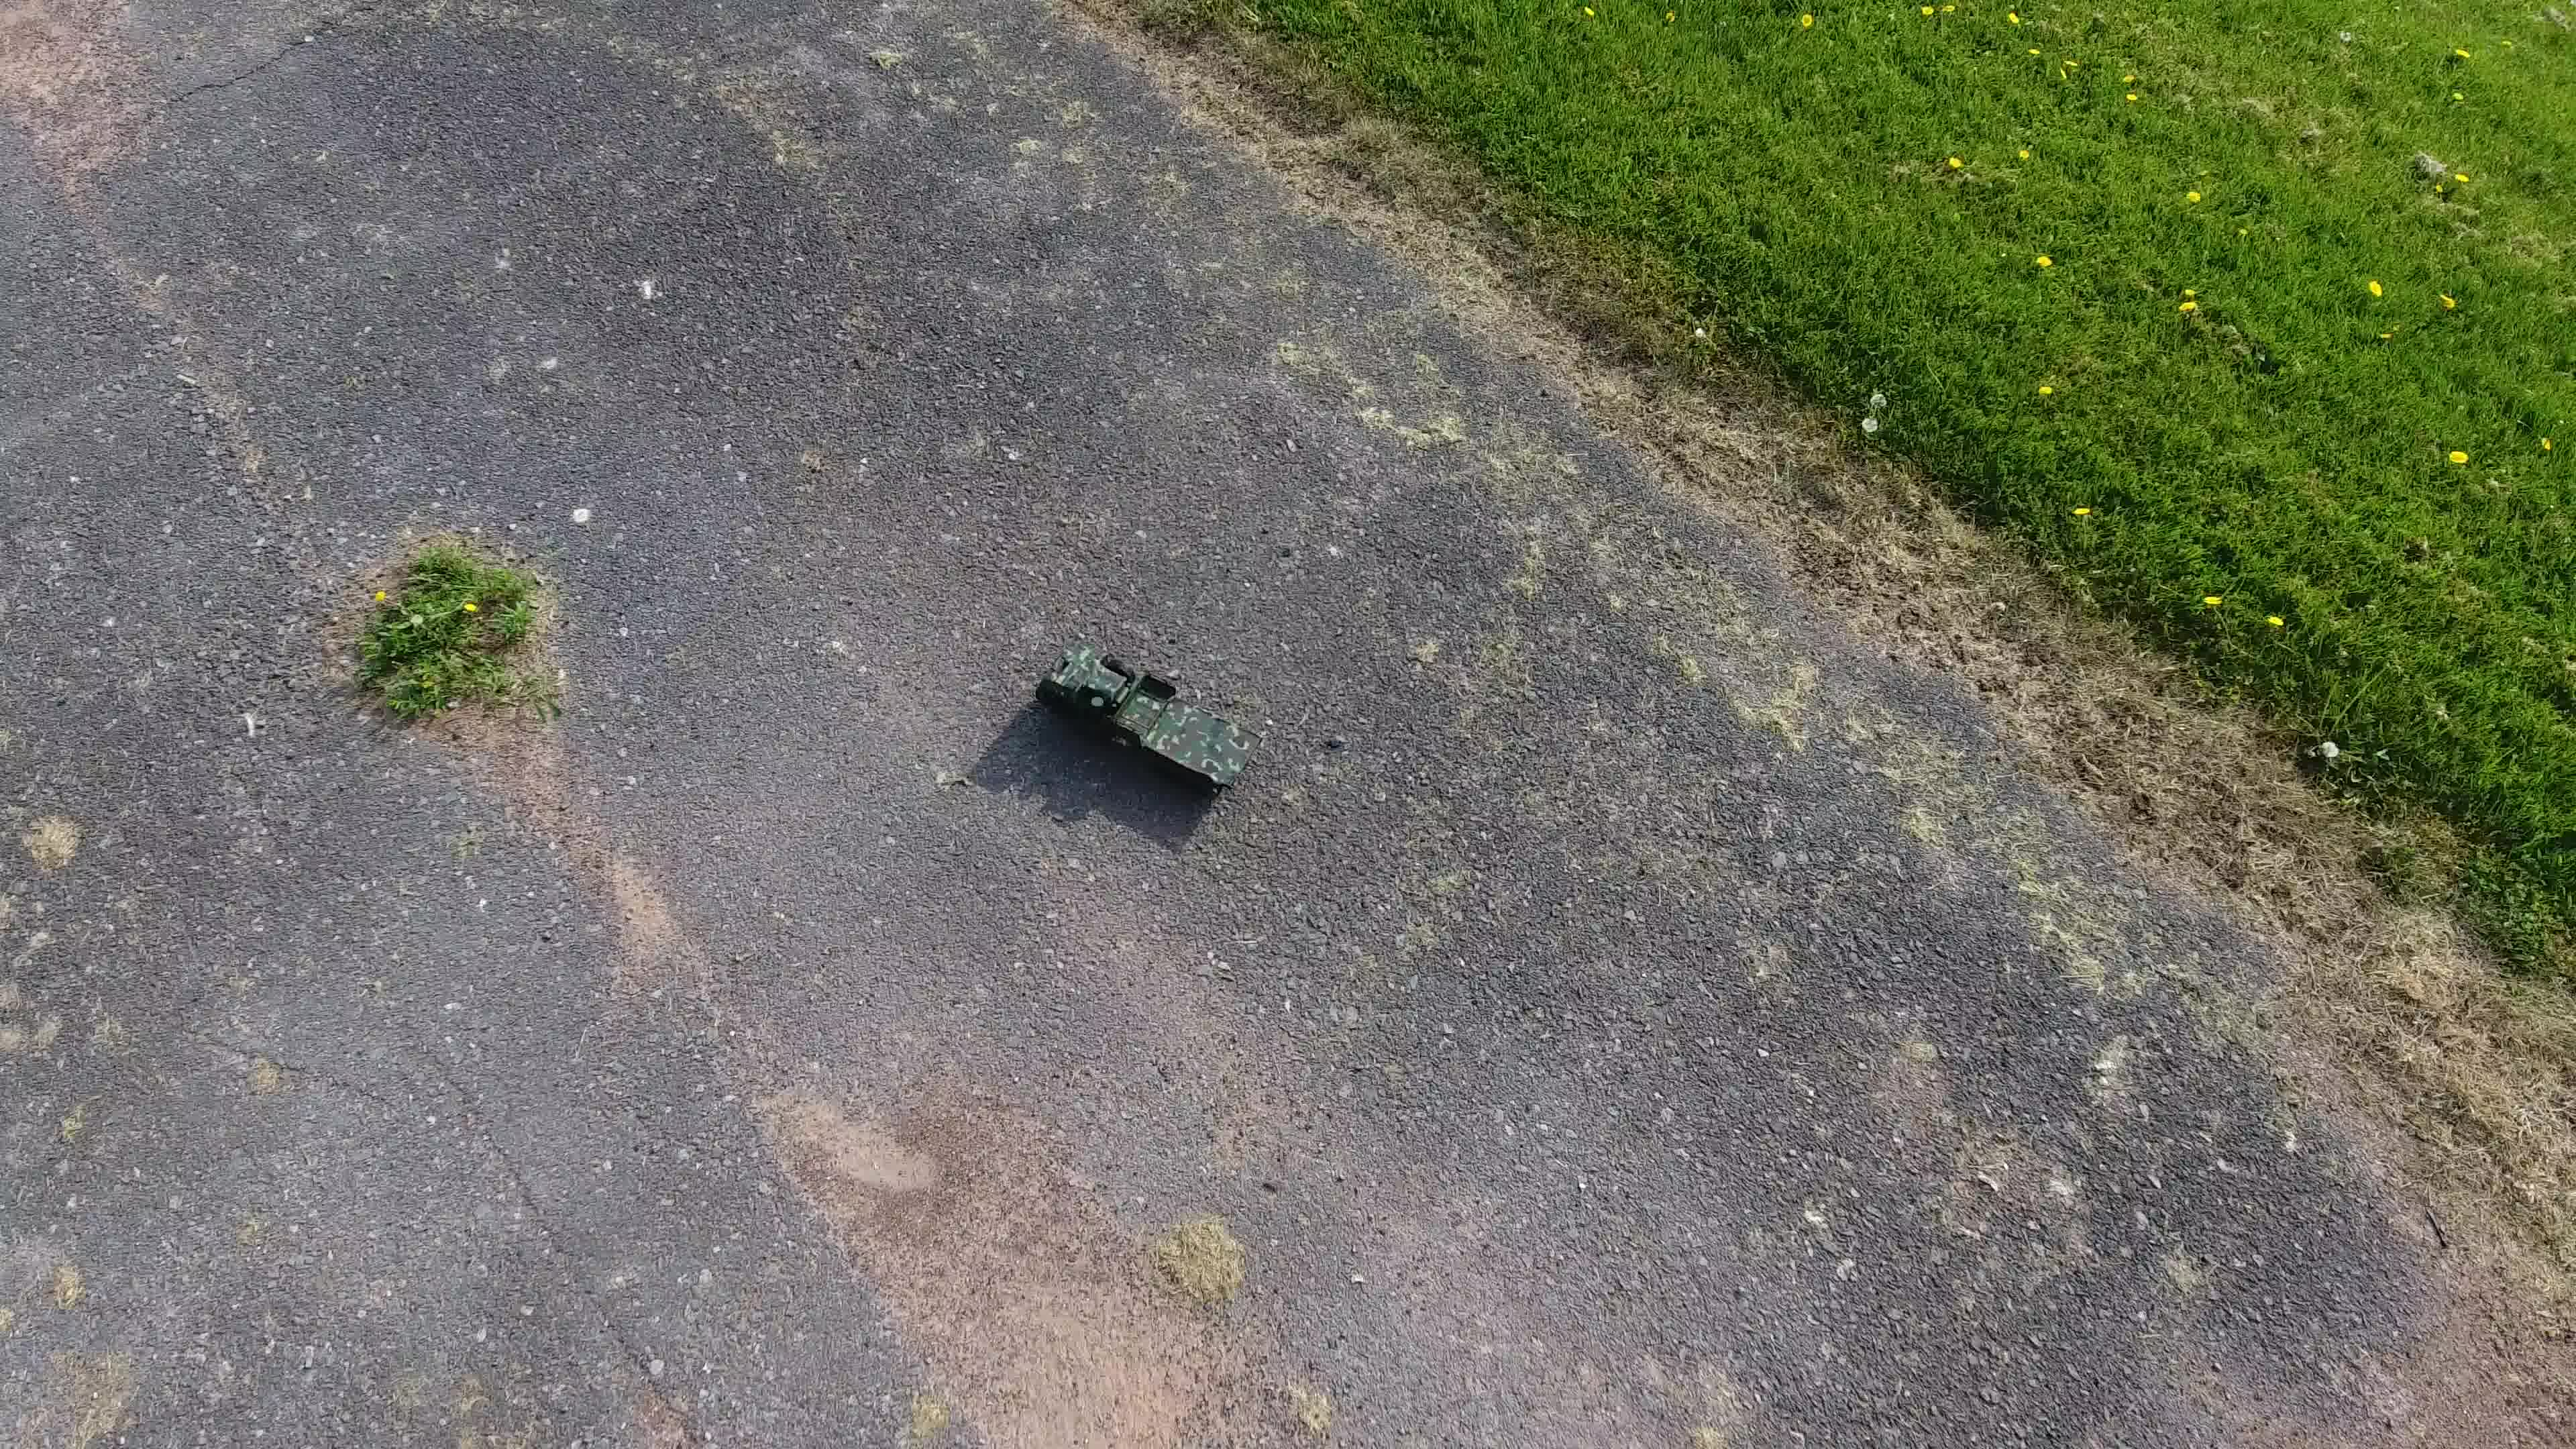transporter9_camo: (1031, 637, 1270, 801)
